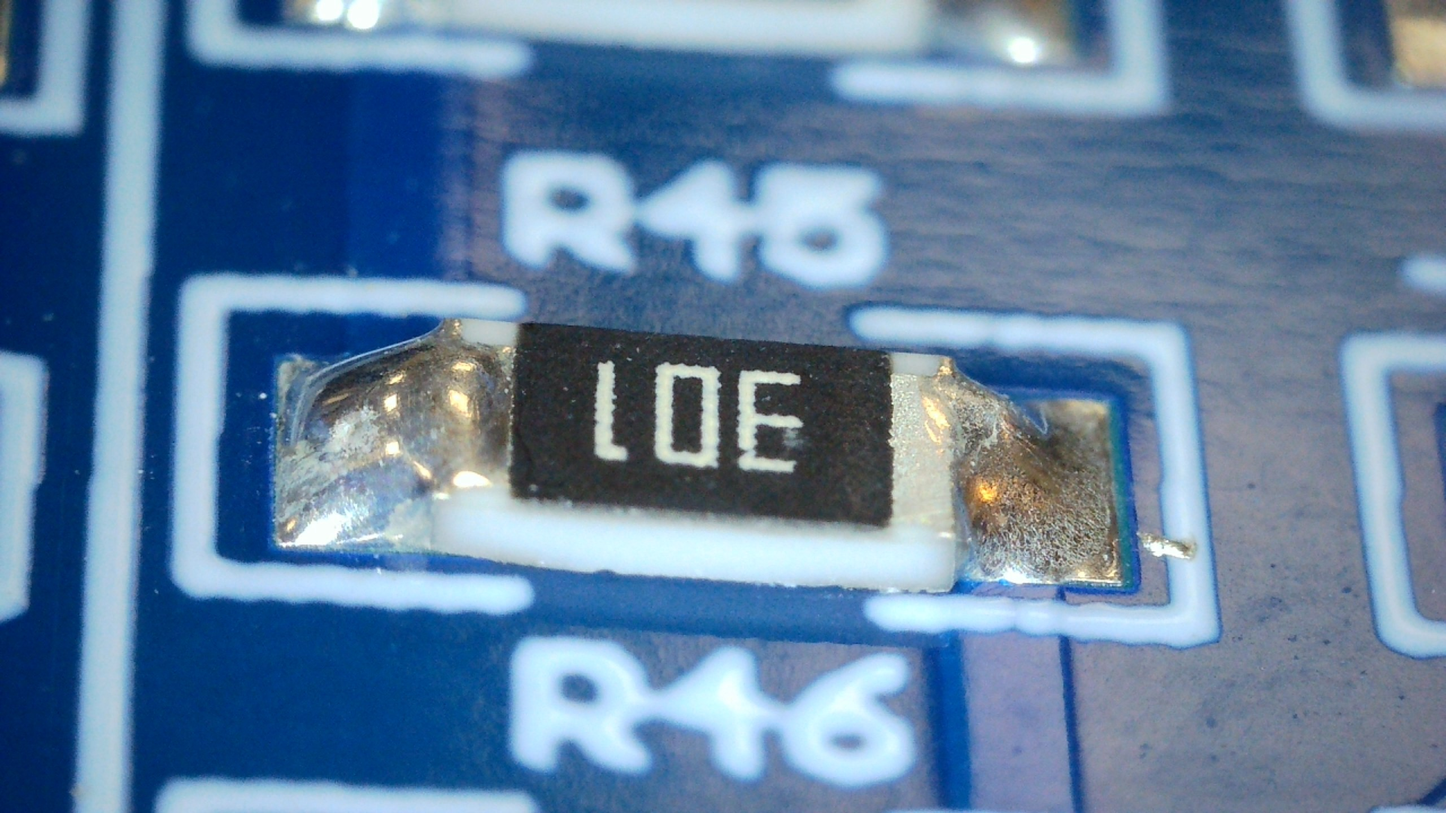NG: (284, 317, 517, 547), (893, 353, 1111, 578)
